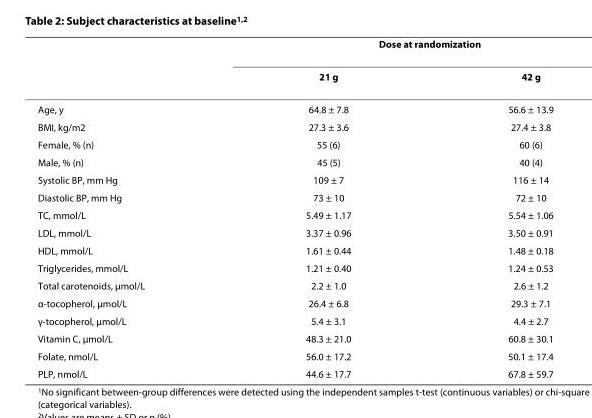table: (36, 36, 552, 379)
table column: (224, 36, 428, 379), (36, 36, 224, 379), (428, 36, 552, 379)
table column header: (36, 36, 552, 92)
table row: (36, 59, 552, 92), (36, 92, 552, 117), (36, 36, 552, 59), (36, 117, 552, 135), (36, 152, 552, 170), (36, 170, 552, 188), (36, 205, 552, 223), (36, 223, 552, 241), (36, 258, 552, 276), (36, 293, 552, 311), (36, 311, 552, 329), (36, 346, 552, 364), (36, 135, 552, 152), (36, 188, 552, 205), (36, 241, 552, 258), (36, 276, 552, 293), (36, 329, 552, 346), (36, 364, 552, 379)
table spanning cell: (224, 36, 552, 59)
